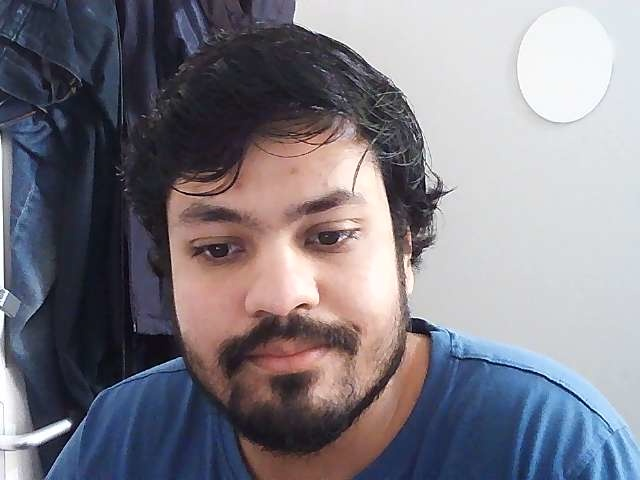Face: (114, 25, 461, 452)
